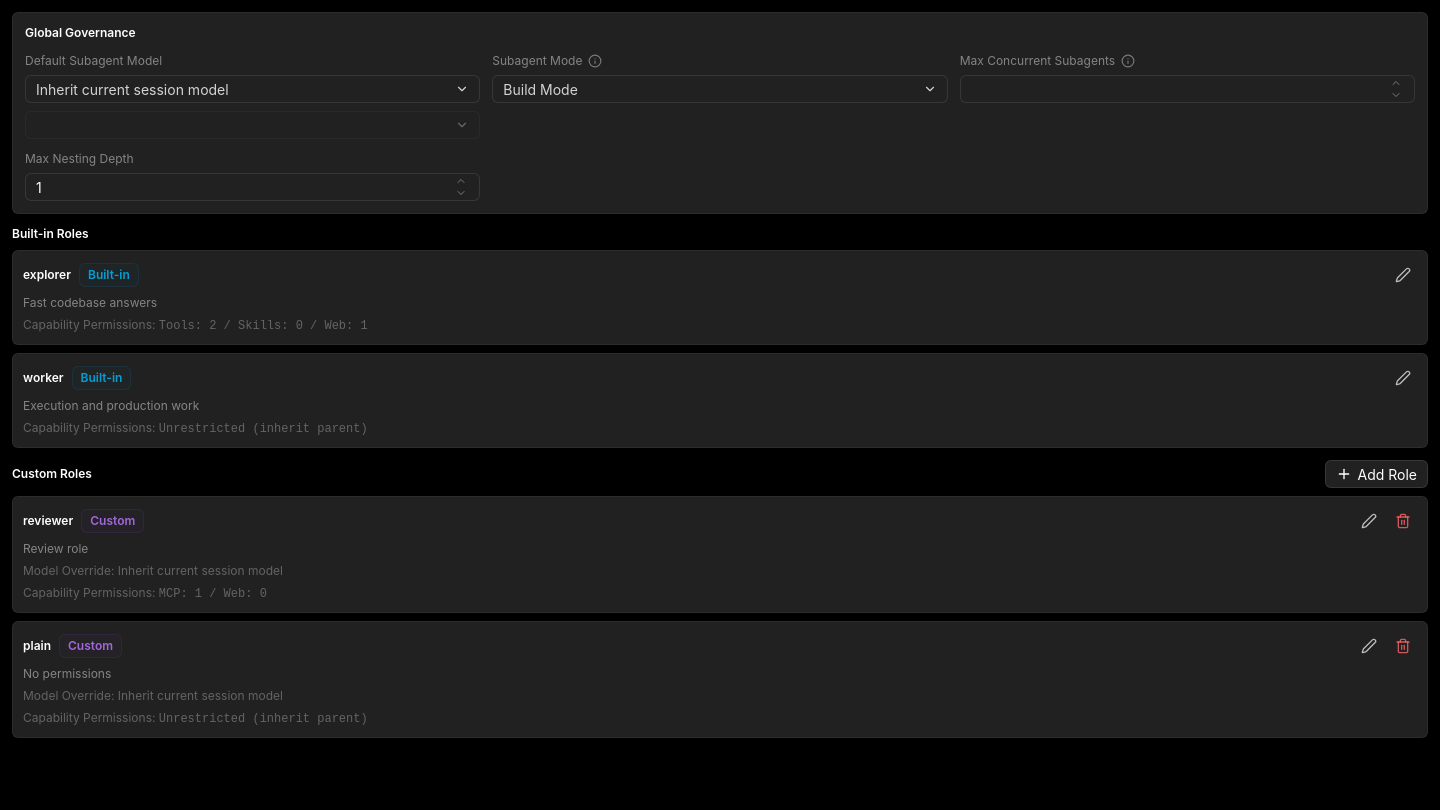
SubagentSettings › 编辑已有角色回填权限配置，未配置权限时展示为不限制
This screenshot has width=1440, height=810.
expect the text "reviewer" is shown: met, box [23,513,73,529]
Click the button named "Edit" in the row of "reviewer": click(1369, 521) [1355,507,1383,535]
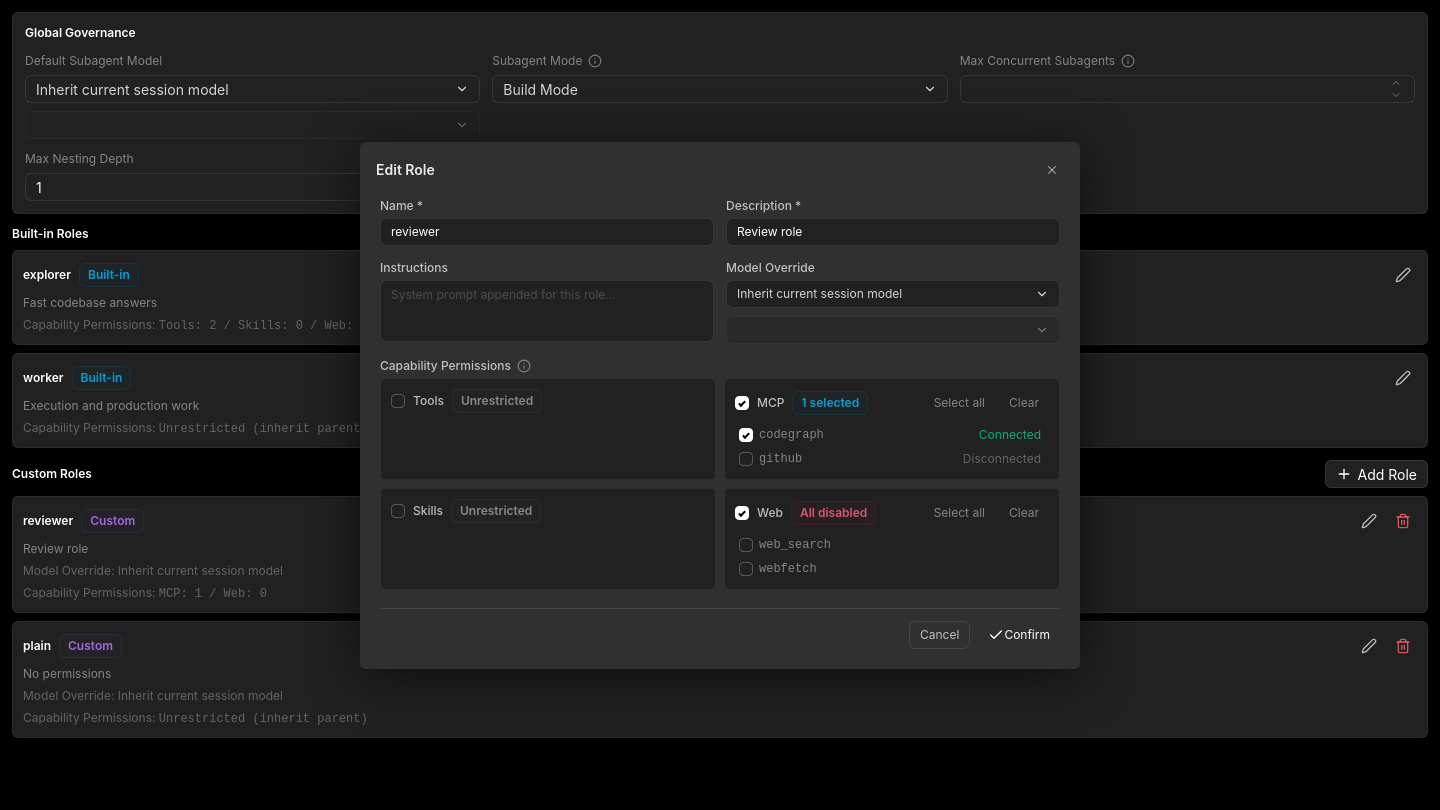
expect the field showing "reviewer" below "Name" is shown: met, box [391,224,703,240]
expect the checkbox labelled "MCP 1 selected" is checked: met, box [735,390,868,414]
expect the text "1 selected" is shown: met, box [802,396,859,408]
